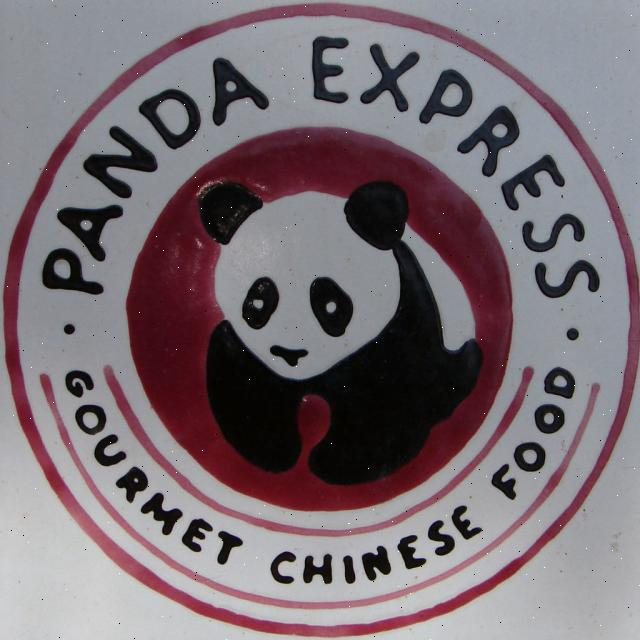panda: (191, 179, 489, 489)
